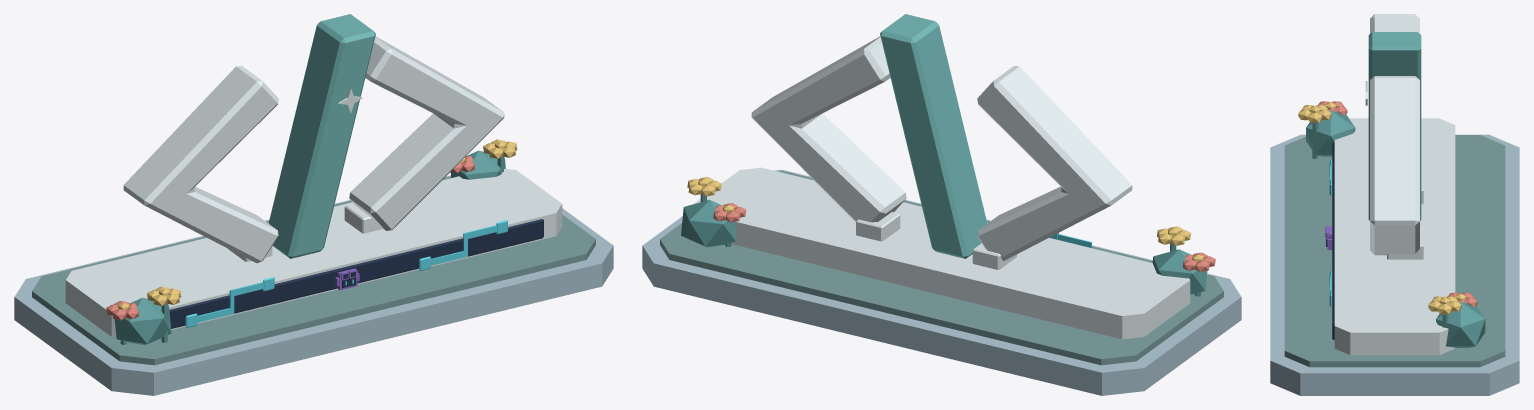
The model's file is campus_code_sculpture_v01.glb.
3 renders of one model, left to right at view 1: azimuth 30°, elevation 25°; view 2: azimuth 150°, elevation 25°; view 3: azimuth 270°, elevation 25°, orthographic. The views are drawn at different scales.
Visible parts, largest first — view 1: campus_code_sculpture; view 2: campus_code_sculpture; view 3: campus_code_sculpture.
Boxes of the visible parts, x1=… form: campus_code_sculpture: x1=14, y1=14, x2=613, y2=395; campus_code_sculpture: x1=642, y1=14, x2=1241, y2=395; campus_code_sculpture: x1=1270, y1=14, x2=1519, y2=395.
Bounding box in the file's own units: 4.3 × 2.13 × 1.9.
1 material, 1 textured.
